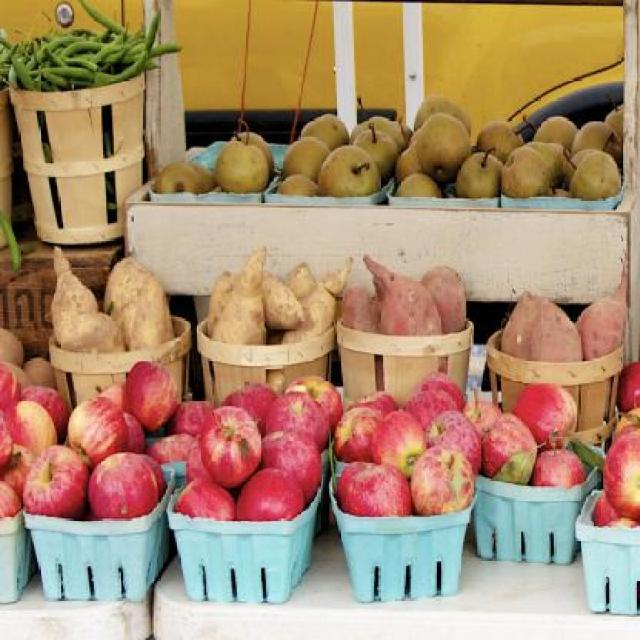Apple pie: (0, 358, 640, 527), (154, 94, 626, 194), (80, 453, 156, 532)
